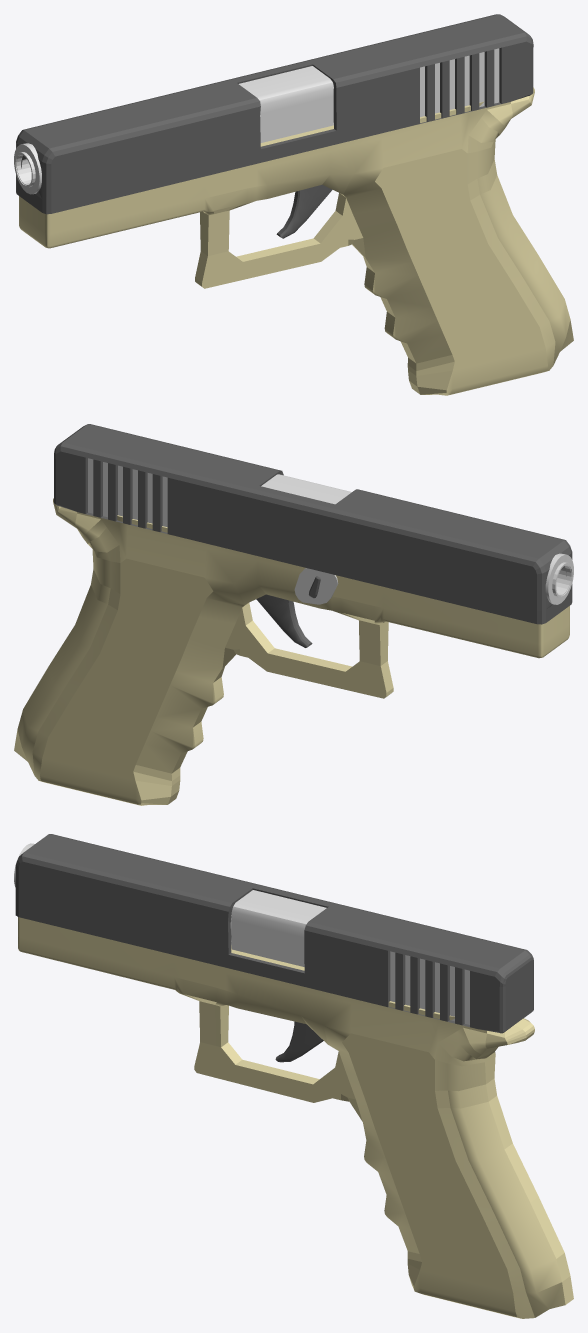
File: Glock 15.fbx
The picture shows the model from 3 angles, top to bottom: view 1: azimuth 30°, elevation 25°; view 2: azimuth 150°, elevation 25°; view 3: azimuth 330°, elevation 25°; orthographic projection.
Parts seen in each view (by area): view 1: Main, Slider, Trigger; view 2: Main, Slider, Trigger; view 3: Main, Slider, Trigger.
Boxes of the visible parts, bbox=[...] form: Main: bbox=[14, 66, 573, 395]; Slider: bbox=[16, 14, 533, 214]; Trigger: bbox=[276, 185, 332, 238]; Main: bbox=[14, 474, 573, 805]; Slider: bbox=[54, 424, 572, 624]; Trigger: bbox=[256, 594, 312, 647]; Main: bbox=[14, 843, 573, 1318]; Slider: bbox=[15, 834, 533, 1033]; Trigger: bbox=[275, 1021, 323, 1062].
Size of the model in its own units: 2.72 by 1.65 by 0.2863.
